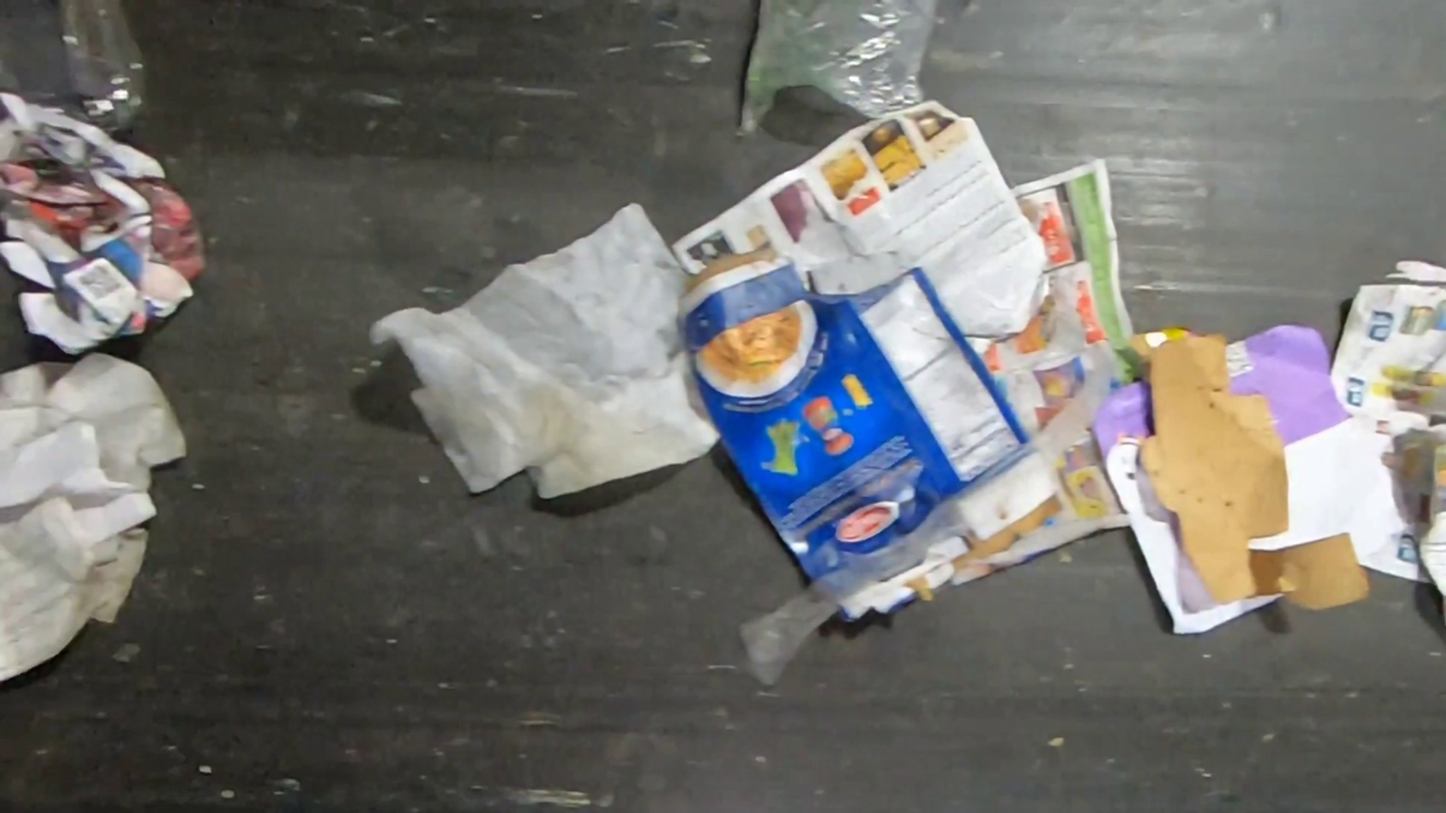cardboard: (679, 235, 1029, 581), (1125, 326, 1375, 613), (837, 491, 1066, 625)
plastic: (734, 342, 1117, 691), (732, 0, 945, 138), (55, 0, 152, 135)
